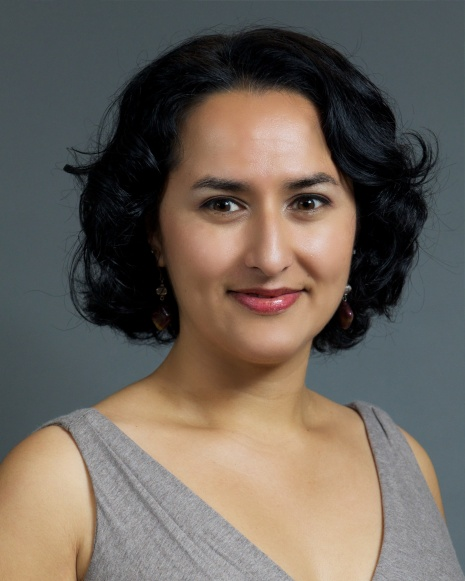Forehead: (159, 92, 353, 188)
